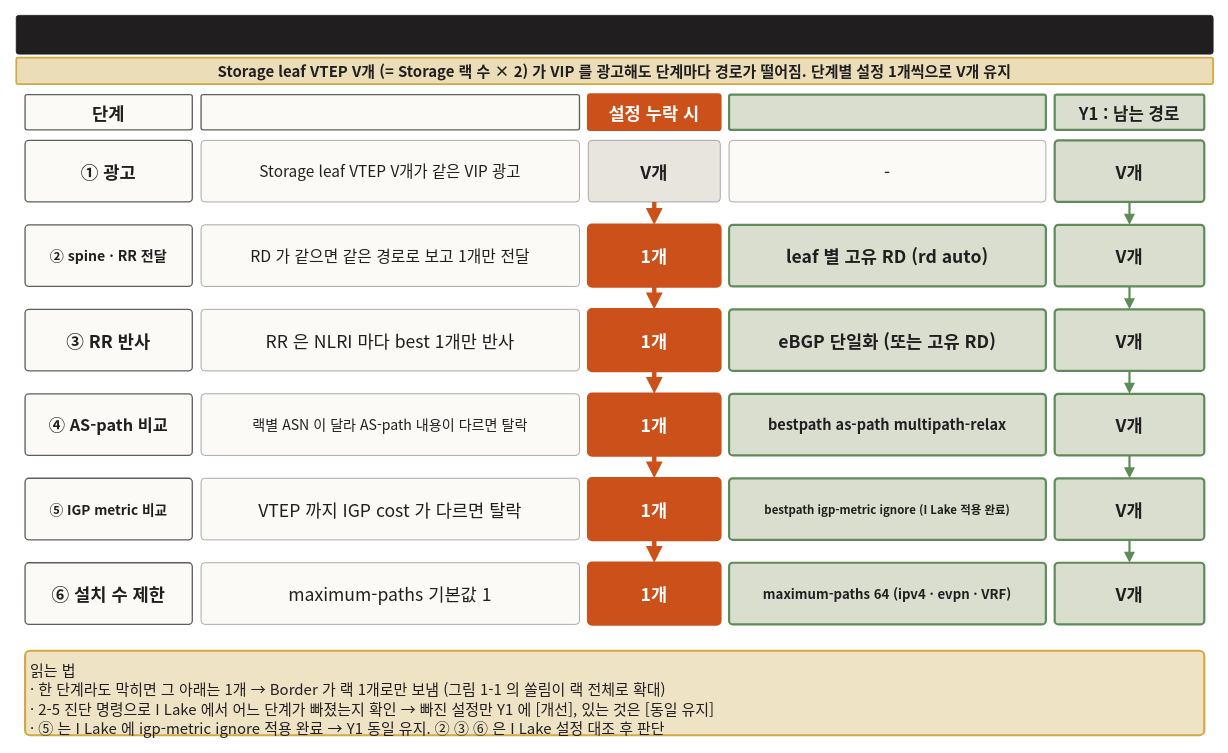
Some shapes in this 1228 by 753 pixel diagram are drawn without their labels. Here are the shapes that lost their labels. From the top down, the centre of each, then its label:
At point (614, 34): "그림 2-2. BGP 경로가 줄어드는 지점 : 광고 V → 설치 1 을 V → V 로".
At point (390, 112): "경로가 떨어지는 조건".
At point (887, 112): "2차 설정".
